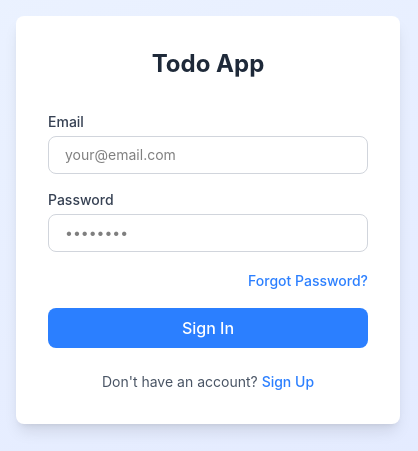
Test: AuthForm › should toggle back to sign-in mode
The width and height of the screenshot is (418, 451).
# Switch to sign up
Click the button "Sign Up" at coordinates (288, 382), box [262,372,314,392]
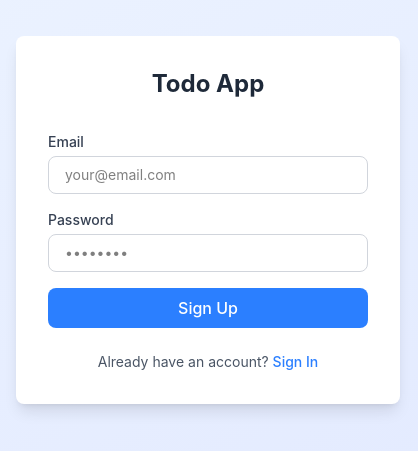
# Switch back to sign in
Click the button "Sign In" at coordinates (295, 362), box [273,352,318,372]
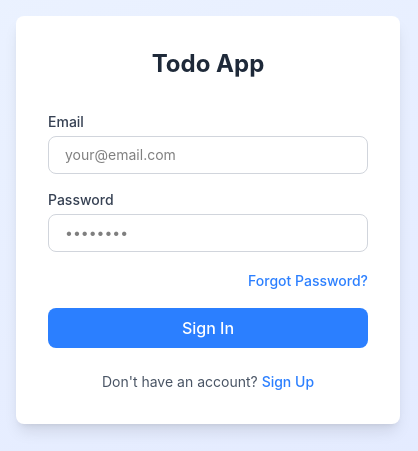
expect the text "Don't have an account?" is shown: met, box [102,373,258,390]
expect the button "Forgot Password?" is shown: met, box [248,271,368,291]
